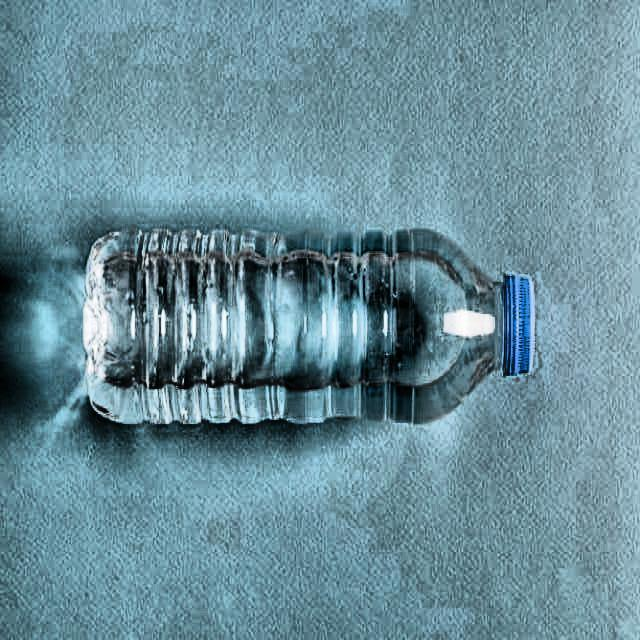plastic: (82, 229, 531, 424)
